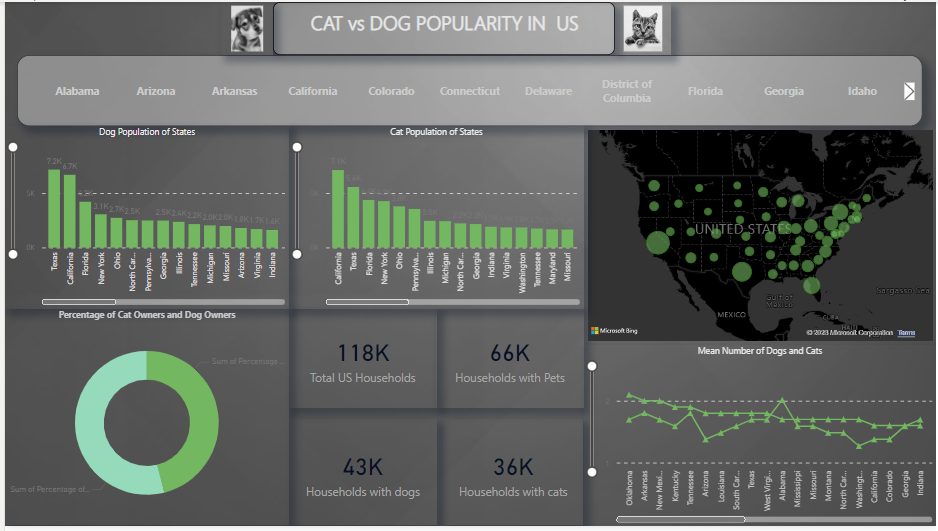

The dashboard page shown, as its layout file describes it:
{"tool":"powerbi","page":{"name":"Page 1","canvas":[1280,720],"ordinal":0},"visuals":[{"type":"card","fields":{"Values":["Sum(States.Number of Households (in 1000))"]},"box":[390.3,421.7,203.4,135.6],"z":0},{"type":"card","fields":{"Values":["Sum(States.Number of Pet Households (in 1000))"]},"box":[592,421.7,203.4,135.6],"z":1000},{"type":"card","fields":{"Values":["Sum(States.Dog Owning Households (1000s))"]},"box":[390.3,573.9,203.4,145.5],"z":2000},{"type":"card","fields":{"Values":["Sum(States.Cat Owning Households)"]},"box":[602,573.9,193.5,145.5],"z":3000},{"type":"slicer","fields":{"Values":["States.Location"]},"box":[16.5,72.8,1245.3,97.6],"z":4000},{"type":"map","fields":{"Category":["States.Location"],"Size":["Sum(States.Number of Pet Households (in 1000))"]},"box":[795.5,170.3,484.5,301],"z":5000},{"type":"clusteredColumnChart","title":"Dog Population of States","fields":{"Category":["States.Location"],"Y":["Sum(States.Dog Population (in 1000))"]},"box":[0,170.3,390.3,251.4],"z":6000},{"type":"clusteredColumnChart","title":"Cat Population of States","fields":{"Category":["States.Location"],"Y":["Sum(States.Cat Population)"]},"box":[390.3,170.3,405.2,251.4],"z":7000},{"type":"lineChart","title":" Mean Number of Dogs and Cats ","fields":{"Y":["Avg(States.Mean Number of Dogs per household)"],"Y2":["Avg(States.Mean Number of Cats)"],"Category":["States.Location"]},"box":[796,471.6,484,248.9],"z":8000},{"type":"textbox","box":[368.5,0,470.2,72.9],"z":9000},{"type":"image","box":[297,0,71.5,72.9],"z":10000},{"type":"image","box":[838.7,0,77,72.9],"z":11000},{"type":"donutChart","title":"Percentage of Cat Owners and Dog Owners","fields":{"Y":["Sum(States.Percentage of Cat Owners)","Sum(States.Percentage of Dog Owners)"]},"box":[0,422.1,390.5,297],"z":12000}]}

Visuals, with their boxes in screenshot pixels (x1, y1, x2, y2), scaled from the page's 1280x720 canvas onto the 938x531 screenshot:
card - Sum(States.Number of Households (in 1000)): bbox=(286, 311, 435, 411)
card - Sum(States.Number of Pet Households (in 1000)): bbox=(434, 311, 583, 411)
card - Sum(States.Dog Owning Households (1000s)): bbox=(286, 423, 435, 530)
card - Sum(States.Cat Owning Households): bbox=(441, 423, 583, 530)
slicer - States.Location: bbox=(12, 54, 925, 126)
map - States.Location x Sum(States.Number of Pet Households (in 1000)): bbox=(583, 126, 937, 348)
"Dog Population of States" clusteredColumnChart: bbox=(0, 126, 286, 311)
"Cat Population of States" clusteredColumnChart: bbox=(286, 126, 583, 311)
" Mean Number of Dogs and Cats " lineChart: bbox=(583, 348, 937, 530)
textbox: bbox=(270, 0, 615, 54)
image: bbox=(218, 0, 270, 54)
image: bbox=(615, 0, 671, 54)
"Percentage of Cat Owners and Dog Owners" donutChart: bbox=(0, 311, 286, 530)
